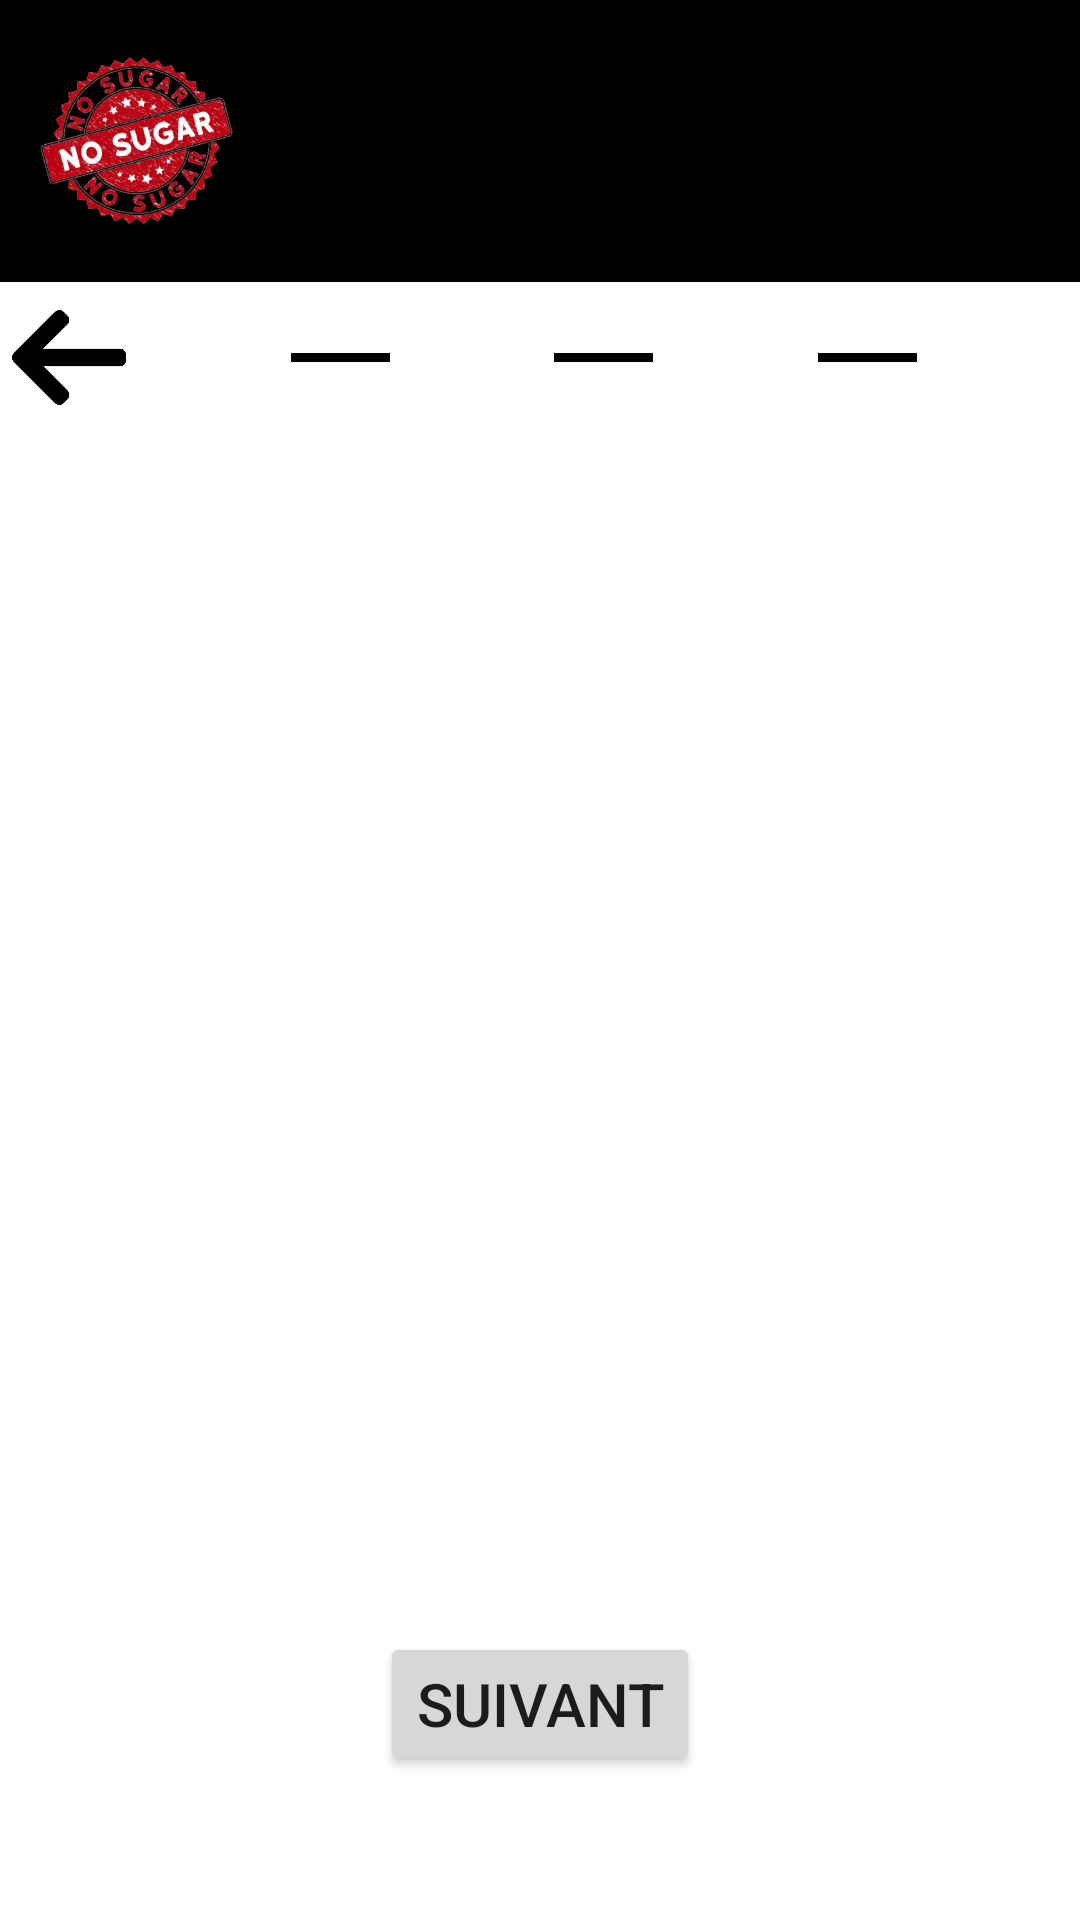

Where icons sit on this 1080 x 1920 app screen, as (x1, y1, x2, y2):
left arrow: (12, 310, 126, 405)
